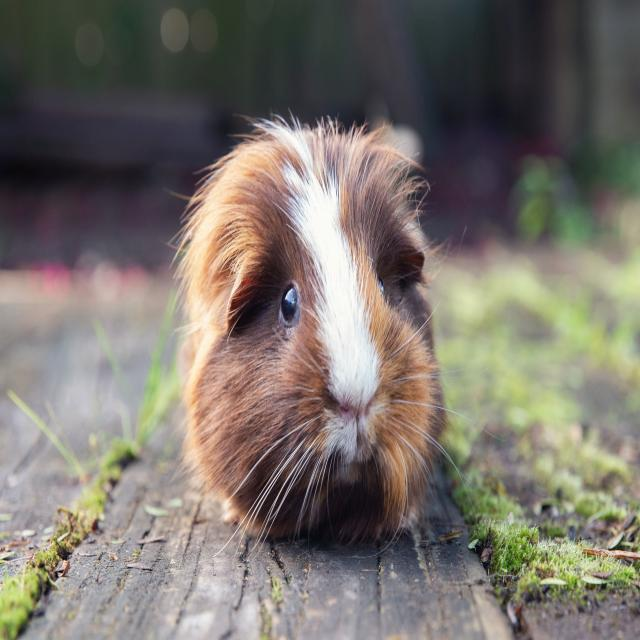guinea pig: (185, 119, 442, 543)
